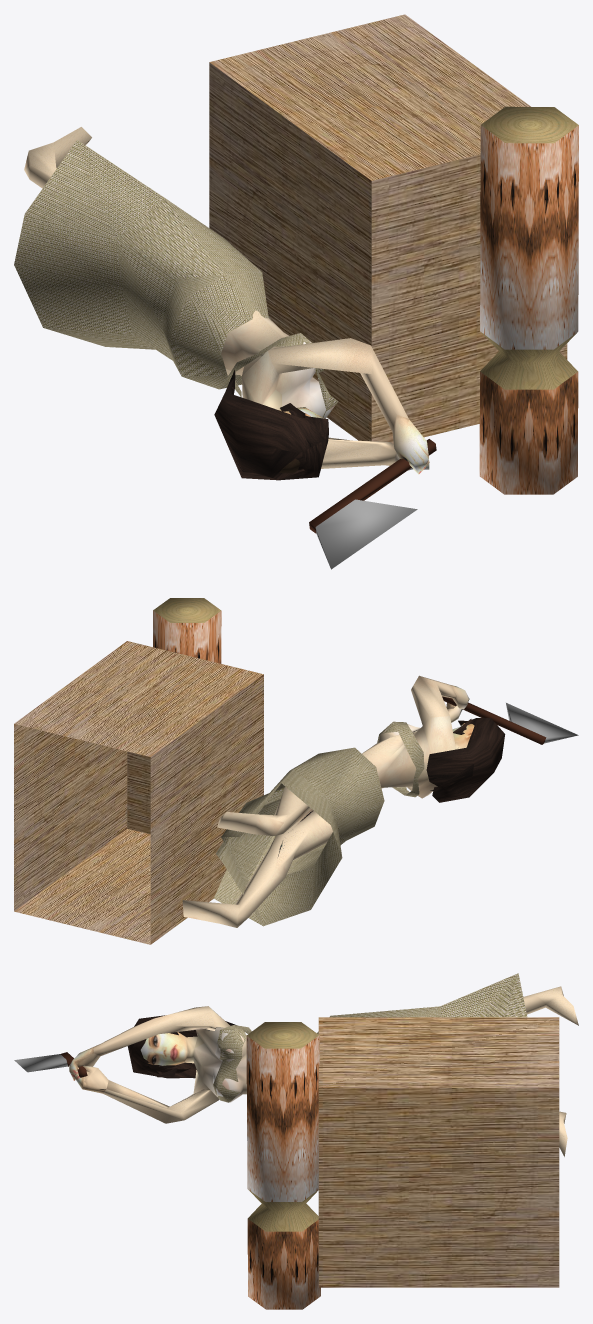
Rendered from worker_000616.obj.
The picture shows the model from 3 angles, top to bottom: view 1: azimuth 30°, elevation 25°; view 2: azimuth 150°, elevation 25°; view 3: azimuth 270°, elevation 25°; orthographic projection. The views are drawn at different scales.
Visible parts, largest first — view 1: cube_Cube, saree_Cylinder, log_Cylinder.003, body.001_omino.012, hair.003_omino.013, axe_Cylinder.001; view 2: cube_Cube, saree_Cylinder, body.001_omino.012, hair.003_omino.013, log_Cylinder.003, axe_Cylinder.001; view 3: cube_Cube, log_Cylinder.003, body.001_omino.012, saree_Cylinder, hair.003_omino.013, axe_Cylinder.001.
Part boxes in pixels (box(x1,y1,x2,y2)): cube_Cube: box(209, 14, 567, 444); saree_Cylinder: box(14, 140, 338, 418); log_Cylinder.003: box(479, 106, 578, 494); body.001_omino.012: box(24, 127, 429, 474); hair.003_omino.013: box(214, 370, 328, 480); axe_Cylinder.001: box(309, 439, 436, 569); cube_Cube: box(14, 641, 263, 944); saree_Cylinder: box(213, 721, 424, 926); body.001_omino.012: box(182, 675, 474, 927); hair.003_omino.013: box(426, 718, 505, 802); log_Cylinder.003: box(153, 598, 221, 663); axe_Cylinder.001: box(442, 696, 578, 744); cube_Cube: box(318, 1017, 559, 1287); log_Cylinder.003: box(246, 1022, 320, 1309); body.001_omino.012: box(69, 986, 578, 1156); saree_Cylinder: box(213, 973, 527, 1102); hair.003_omino.013: box(127, 1015, 236, 1078); axe_Cylinder.001: box(14, 1052, 87, 1077).
Bounding box in the file's own units: 2.2 × 1.68 × 3.29.
